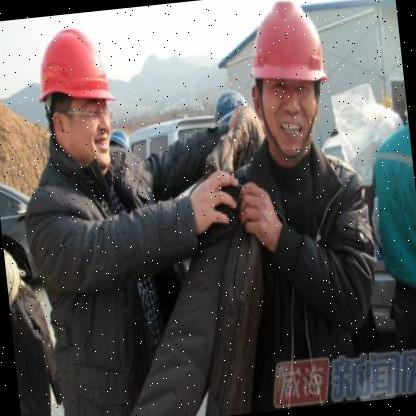capacete: (231, 0, 344, 167), (21, 14, 130, 184), (208, 84, 250, 140), (106, 123, 134, 171)
